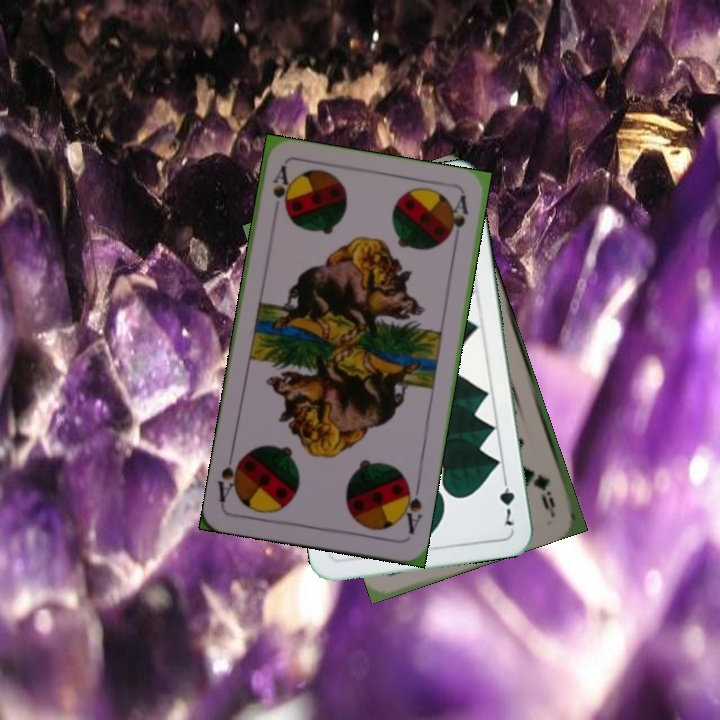G7: (495, 471, 517, 528)
G9: (532, 470, 558, 512)
SA: (396, 478, 425, 537), (268, 162, 293, 215)
